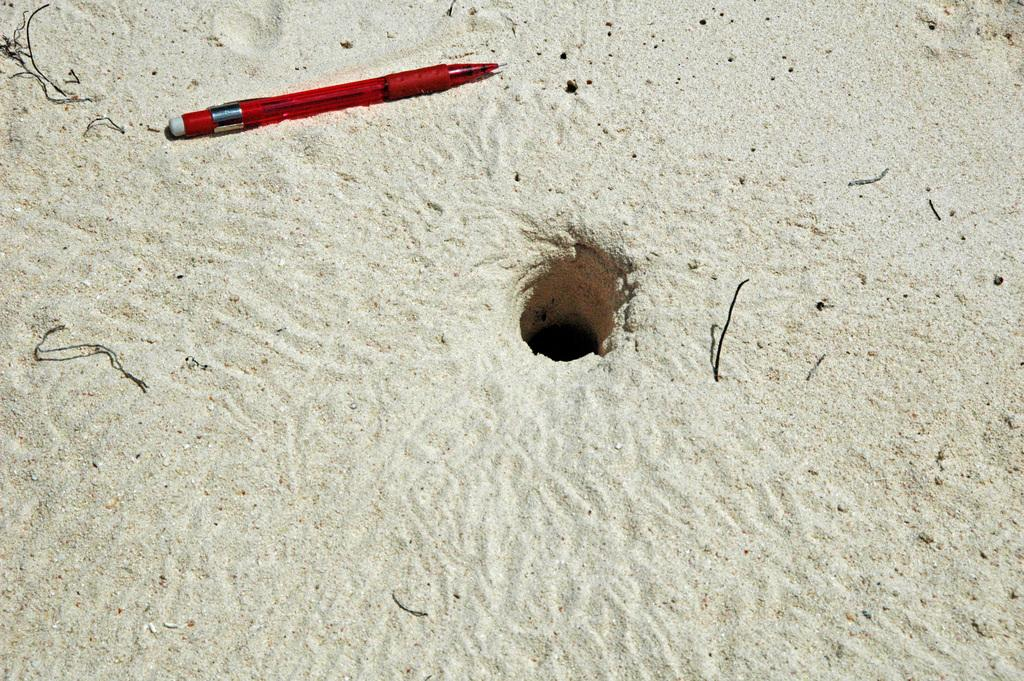Computer-mouse: (511, 239, 634, 366)
